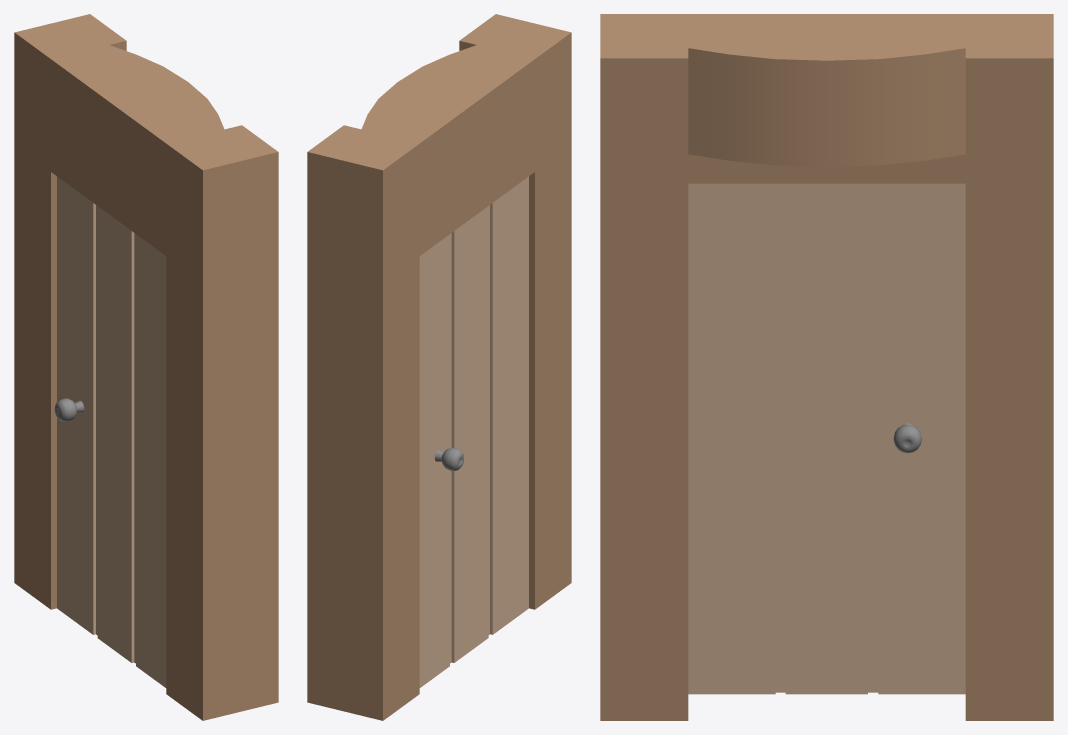
File: door_wood.fbx
3 views of the same model, side by side, from view 1: azimuth 30°, elevation 25°; view 2: azimuth 150°, elevation 25°; view 3: azimuth 270°, elevation 25° (orthographic). The views are drawn at different scales.
Visible parts, largest first — view 1: Cube.002, Cube, Cylinder; view 2: Cube.002, Cube, Cylinder; view 3: Cube.002, Cube.
Part boxes in pixels (x1,y1,x2,y2): Cube.002: (14, 14, 278, 720); Cube: (57, 176, 166, 687); Cylinder: (54, 398, 84, 421); Cube.002: (307, 14, 571, 720); Cube: (419, 176, 528, 687); Cylinder: (434, 447, 464, 470); Cube.002: (600, 14, 1053, 720); Cube: (688, 183, 965, 694).
Size of the model in its own units: 184 by 998 by 619.
3 materials, 3 textured.
